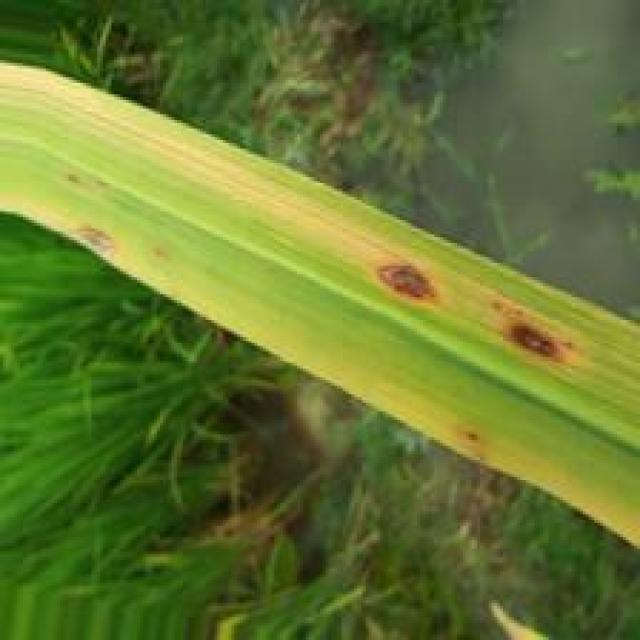Brown_Spot: (366, 258, 443, 311), (504, 322, 564, 367)
